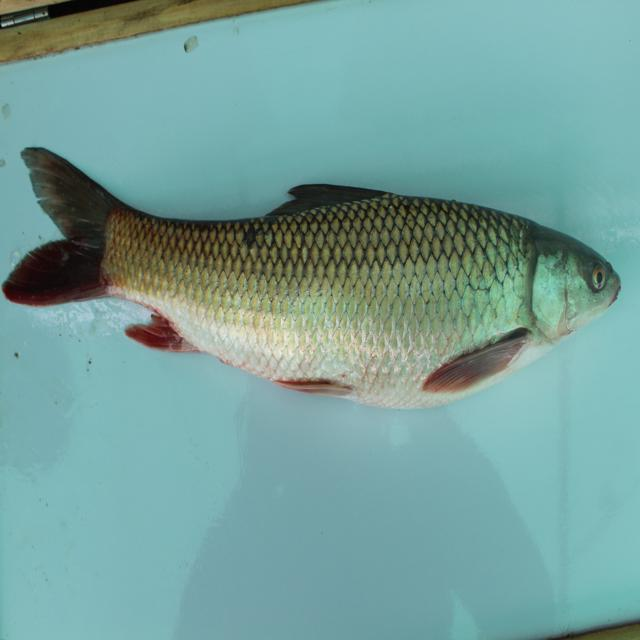Mori: (3, 137, 633, 408)
